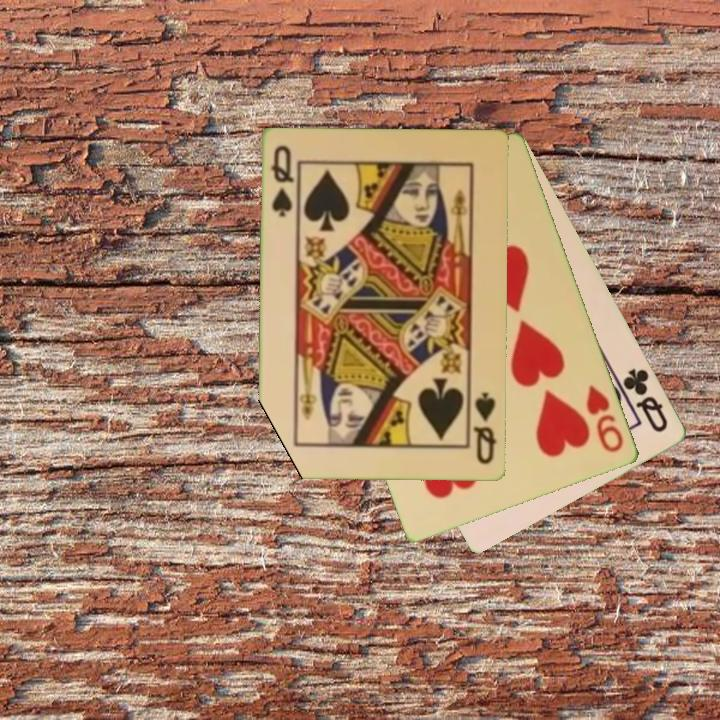9h: (583, 381, 627, 456)
Qc: (619, 365, 672, 436)
Qs: (470, 389, 500, 468), (268, 142, 297, 220)
